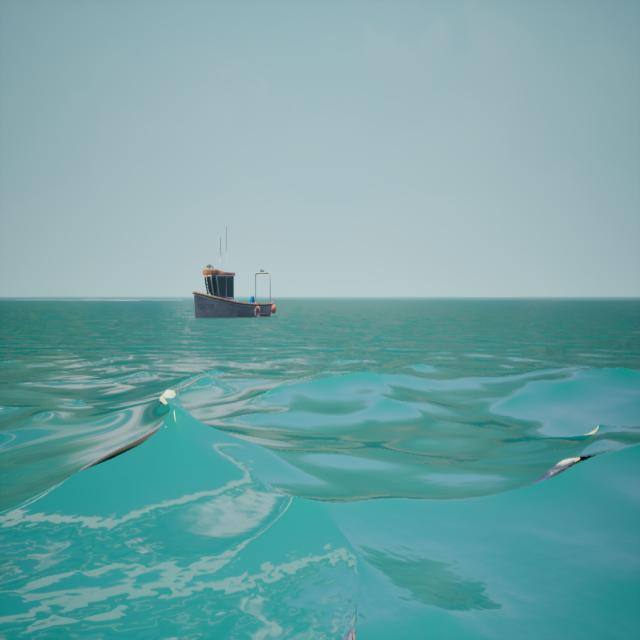ship: (185, 207, 286, 337)
